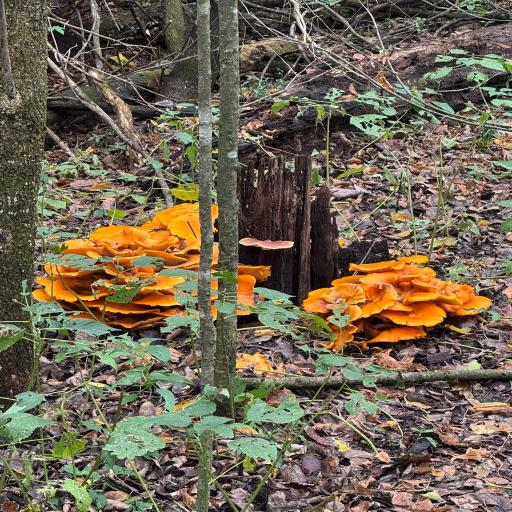Jack O Lantern Mushroom: (34, 199, 292, 338), (297, 250, 489, 354)
